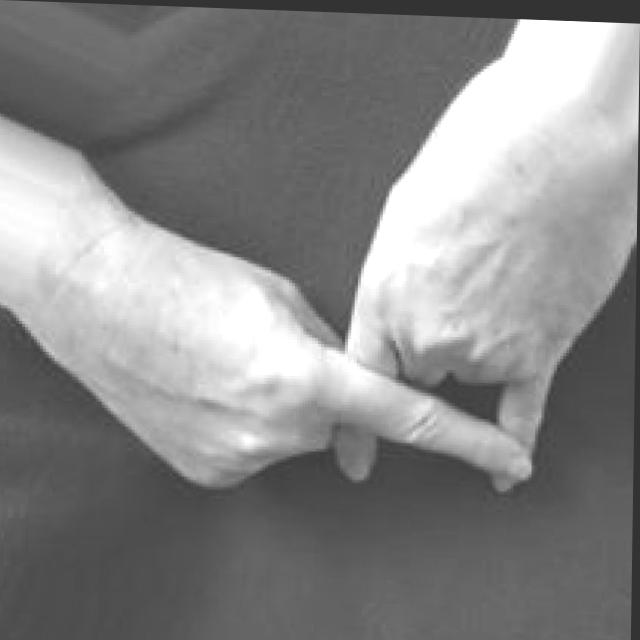H: (59, 137, 638, 520)
